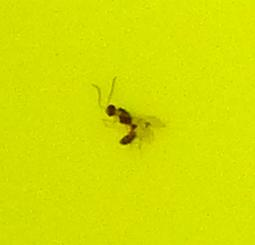Hymenoptera: (100, 100, 155, 145)
